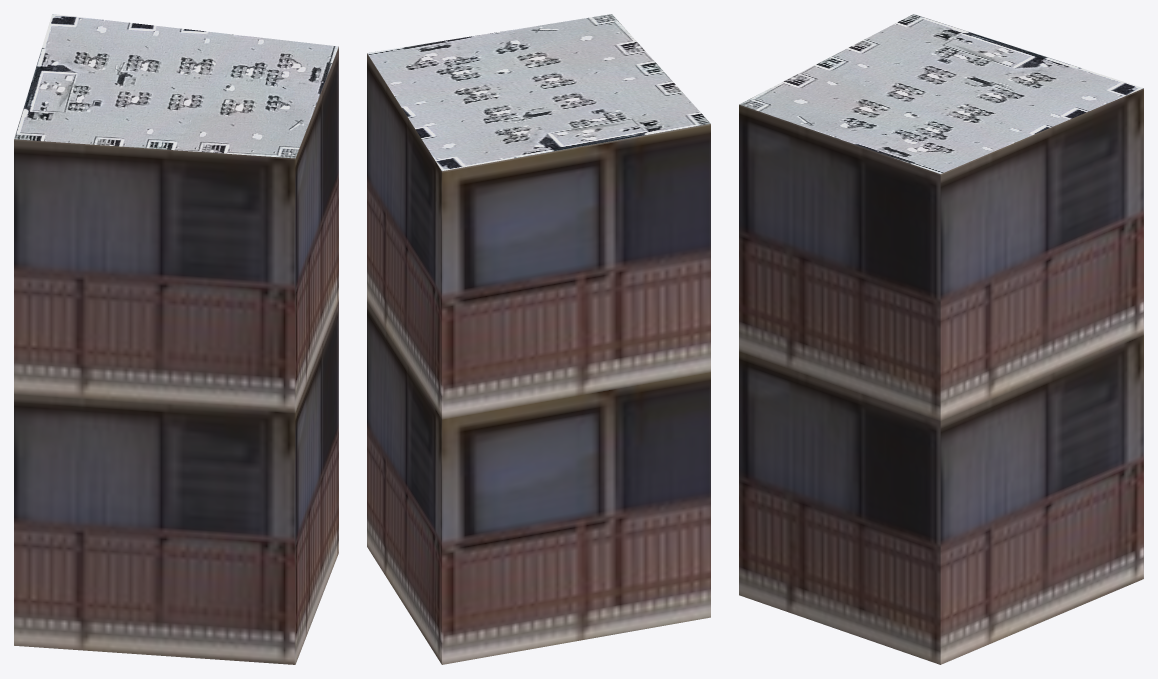
Rendered from ResTex__953.fbx.
3 renders of one model, left to right at view 1: azimuth 30°, elevation 25°; view 2: azimuth 150°, elevation 25°; view 3: azimuth 270°, elevation 25°, orthographic. The views are drawn at different scales.
Visible parts, largest first — view 1: CityEngineMaterial_6_m, CityEngineMaterial_4_m; view 2: CityEngineMaterial_6_m, CityEngineMaterial_4_m; view 3: CityEngineMaterial_6_m, CityEngineMaterial_4_m.
Boxes of the visible parts, x1,y1,x2,y2 form: CityEngineMaterial_6_m: (14, 47, 338, 664); CityEngineMaterial_4_m: (14, 14, 338, 158); CityEngineMaterial_6_m: (367, 53, 710, 664); CityEngineMaterial_4_m: (367, 14, 710, 170); CityEngineMaterial_6_m: (739, 88, 1143, 664); CityEngineMaterial_4_m: (739, 14, 1143, 173).
Size of the model in its own units: 4.2 by 6 by 4.48.
2 materials, 2 textured.
